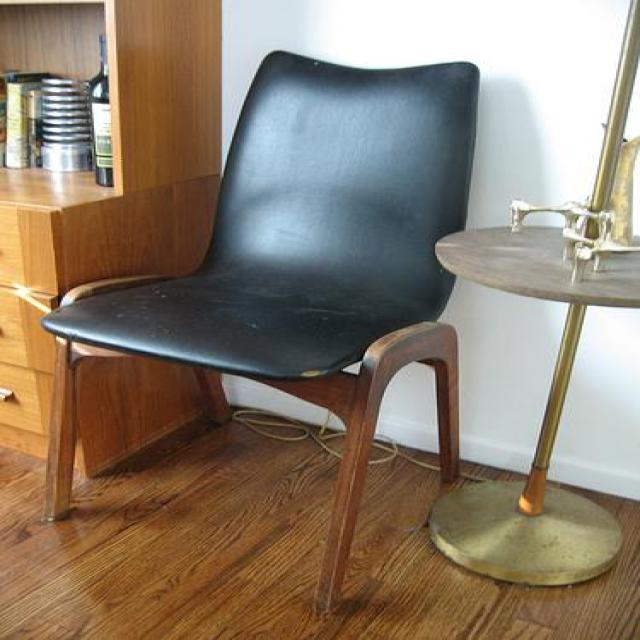chair: (42, 49, 490, 616)
